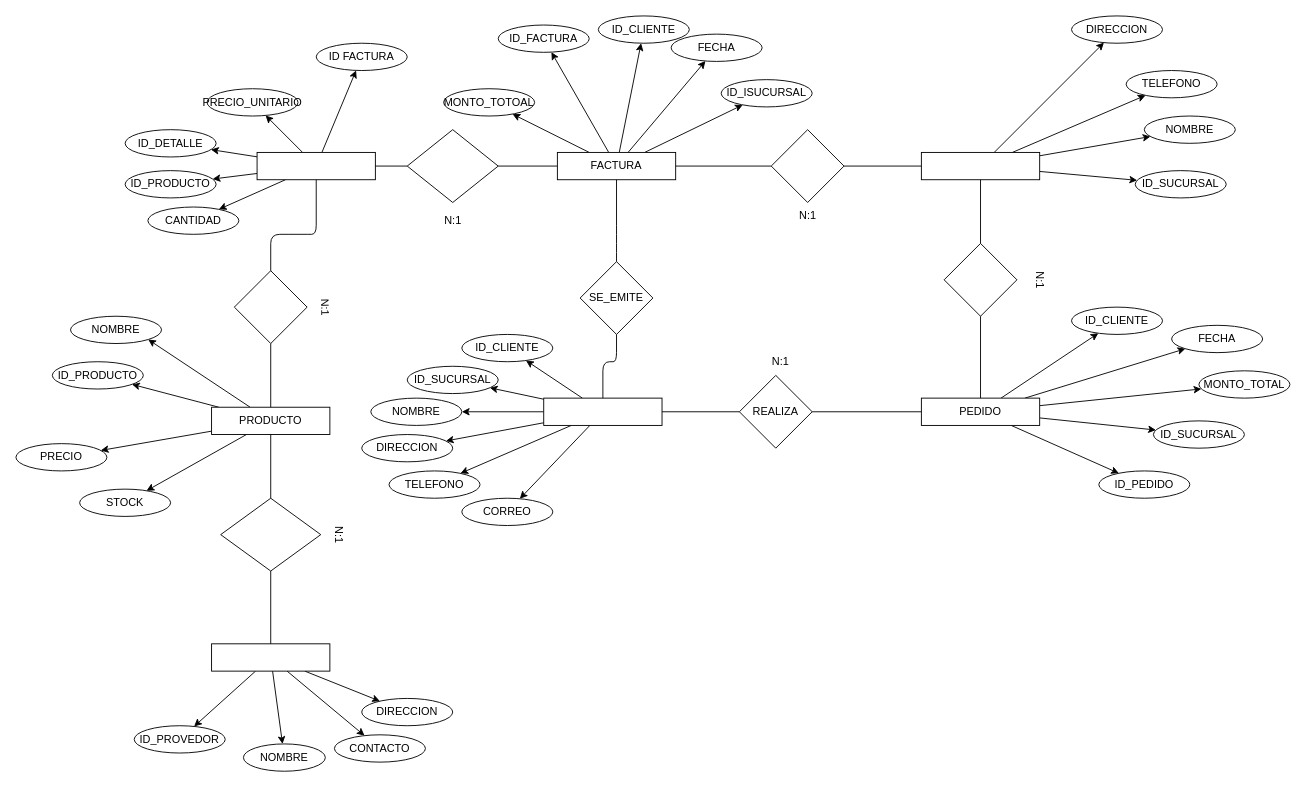
Some shapes in this 1306 by 787 pixel diagram are drawn without their labels. The shapes that lost their labels are listed below. From the top down, each one's centre as x and y in pixels, then its label:
At pixel 315 166: "DETALLE_FACTURA".
At pixel 452 165: "PERTENECE".
At pixel 807 165: "EMITE_EN".
At pixel 980 166: "SUCURSAL".
At pixel 980 279: "SE_REALIZA".
At pixel 270 307: "DESCRIBE".
At pixel 602 411: "CLIENTE".
At pixel 270 534: "SUMINISTRADO".
At pixel 270 657: "PROVEEDOR".
